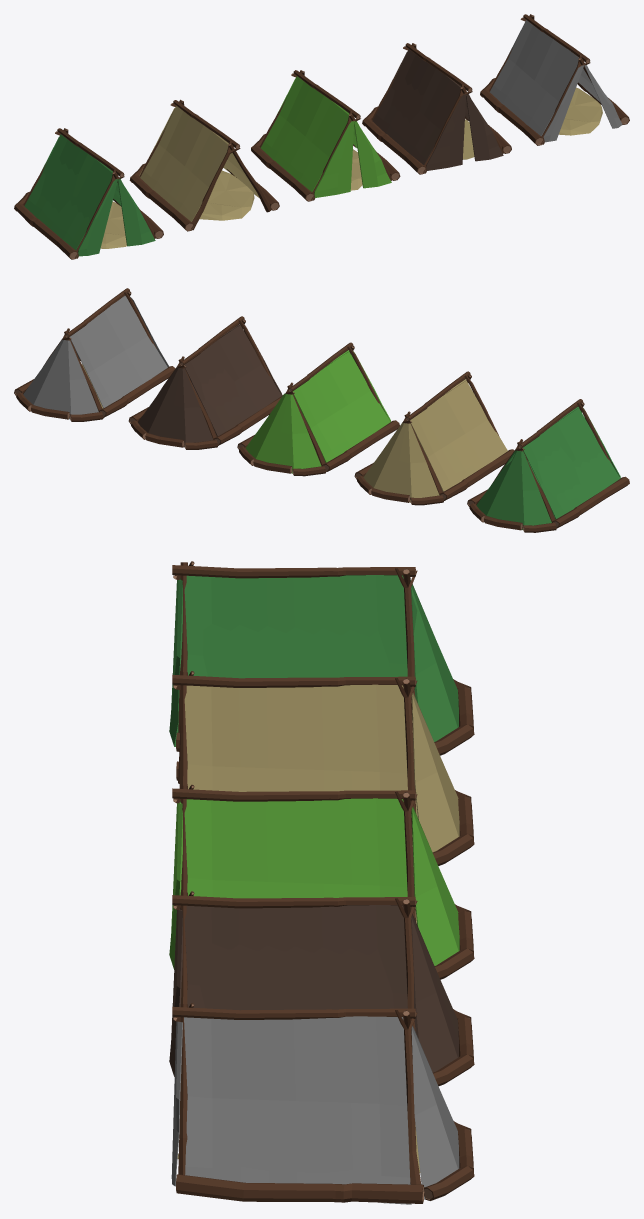
3 views of the same model, one above another, from view 1: azimuth 30°, elevation 25°; view 2: azimuth 150°, elevation 25°; view 3: azimuth 270°, elevation 25° (orthographic). The views are drawn at different scales.
Visible parts, largest first — view 1: LPTentV1.1, LPTentV1.3, LPTentV1.4, LPTentV1.5, LPTentV1.2; view 2: LPTentV1.1, LPTentV1.5, LPTentV1.3, LPTentV1.2, LPTentV1.4; view 3: LPTentV1.5, LPTentV1.4, LPTentV1.2, LPTentV1.3, LPTentV1.1.
Part boxes in pixels (<box>): LPTentV1.1: <box>251,70,400,201</box>; LPTentV1.3: <box>14,128,163,259</box>; LPTentV1.4: <box>362,43,511,174</box>; LPTentV1.5: <box>480,14,629,145</box>; LPTentV1.2: <box>129,99,279,231</box>; LPTentV1.1: <box>237,342,399,476</box>; LPTentV1.5: <box>14,288,175,421</box>; LPTentV1.3: <box>467,399,629,532</box>; LPTentV1.2: <box>354,371,514,505</box>; LPTentV1.4: <box>128,316,282,449</box>; LPTentV1.5: <box>171,1003,474,1204</box>; LPTentV1.4: <box>169,891,474,1086</box>; LPTentV1.2: <box>172,671,474,865</box>; LPTentV1.3: <box>169,561,474,755</box>; LPTentV1.1: <box>169,784,474,979</box>.
Size of the model in its own units: 34.39 by 4.63 by 8.19.
